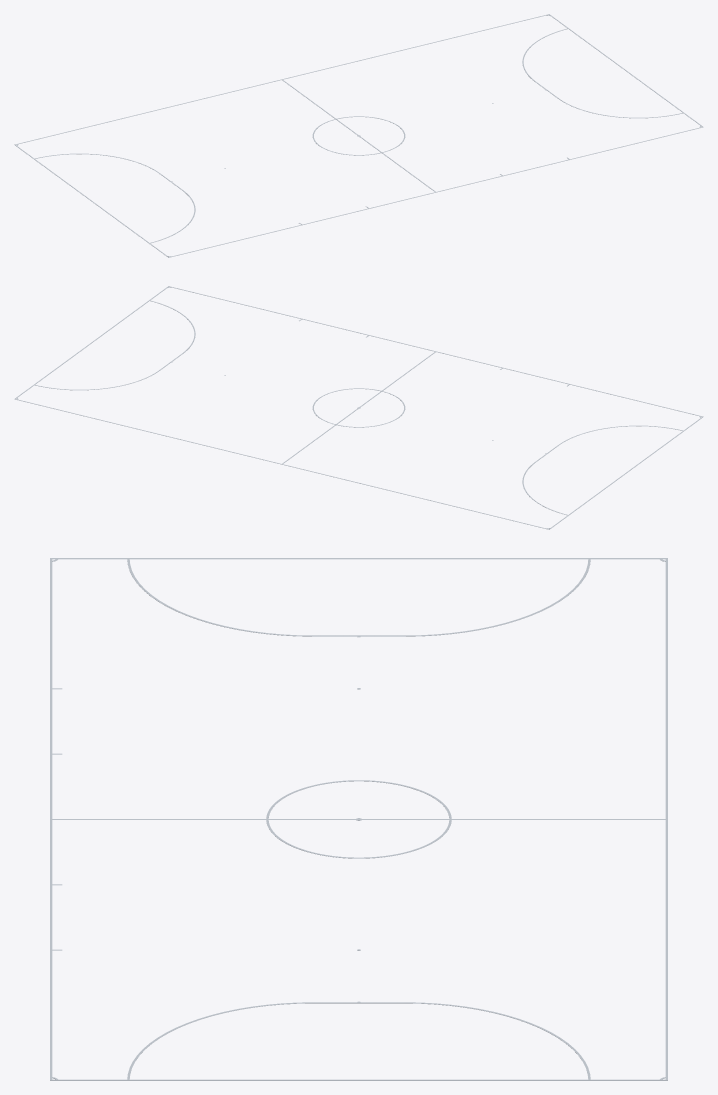
File: tt_rink_lines_futsal.glb
3 renders of one model, top to bottom at view 1: azimuth 30°, elevation 25°; view 2: azimuth 150°, elevation 25°; view 3: azimuth 270°, elevation 25°, orthographic. The views are drawn at different scales.
Visible parts, largest first — view 1: Line_Paint; view 2: Line_Paint; view 3: Line_Paint.
Part boxes in pixels (<box>): Line_Paint: <box>14,14,703,257</box>; Line_Paint: <box>14,286,703,529</box>; Line_Paint: <box>50,558,667,1080</box>.
Size of the model in its own units: 40 by 0.006 by 20.
Materials: 1 (1 with a texture image).
